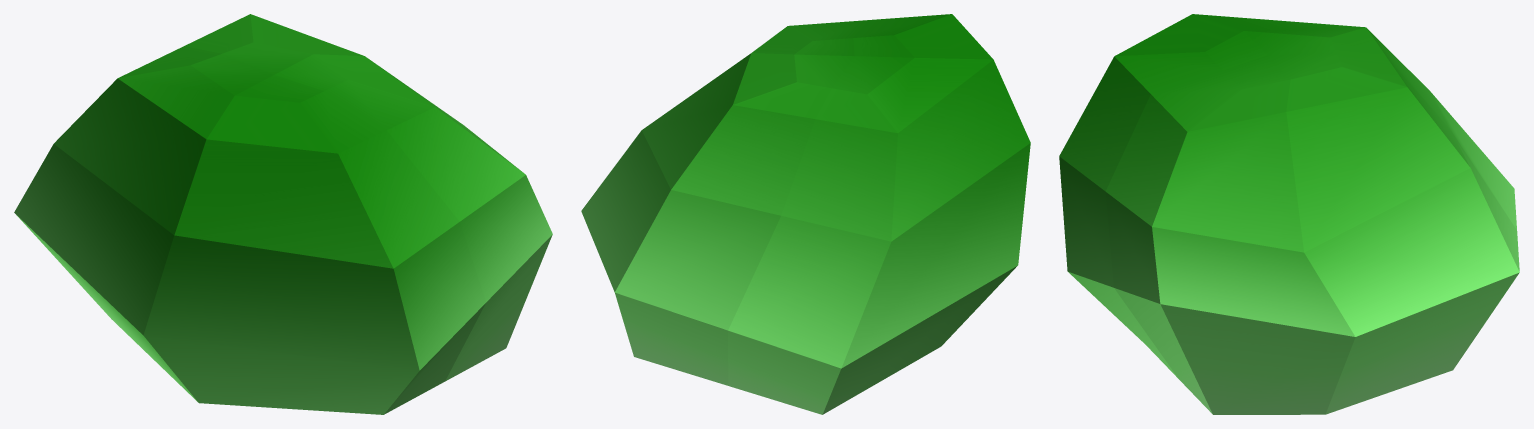
Rendered from Cristal04.fbx.
3 views of the same model, side by side, from view 1: azimuth 30°, elevation 25°; view 2: azimuth 150°, elevation 25°; view 3: azimuth 270°, elevation 25° (orthographic). The views are drawn at different scales.
Visible parts, largest first — view 1: Cylinder.016; view 2: Cylinder.016; view 3: Cylinder.016.
Part boxes in pixels (bbox=[...]): Cylinder.016: bbox=[14, 14, 552, 414]; Cylinder.016: bbox=[581, 14, 1030, 414]; Cylinder.016: bbox=[1059, 14, 1519, 414].
Size of the model in its own units: 104 by 74.76 by 115.
